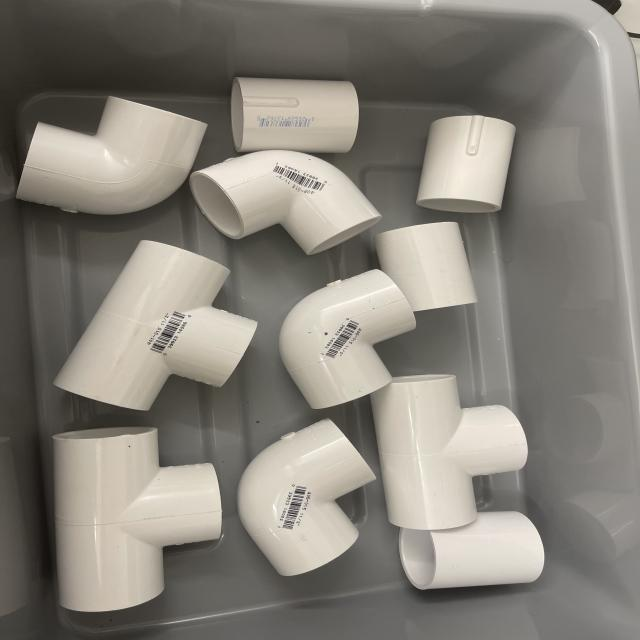L Joint: (16, 96, 208, 216), (238, 419, 377, 578), (185, 149, 382, 258)
T Joint: (53, 239, 256, 414), (51, 242, 258, 412), (52, 425, 222, 615), (374, 377, 526, 531), (277, 269, 418, 412)
